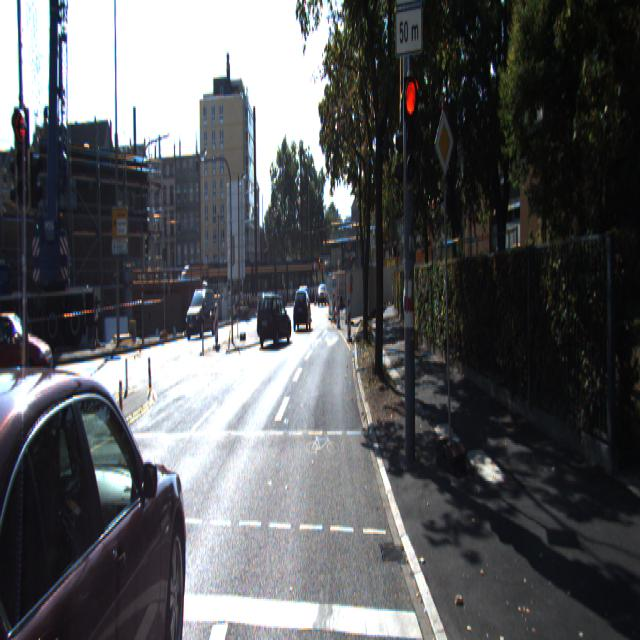Car: (0, 334, 194, 638), (0, 307, 56, 397), (254, 288, 291, 345), (185, 279, 216, 332), (292, 284, 310, 327)
